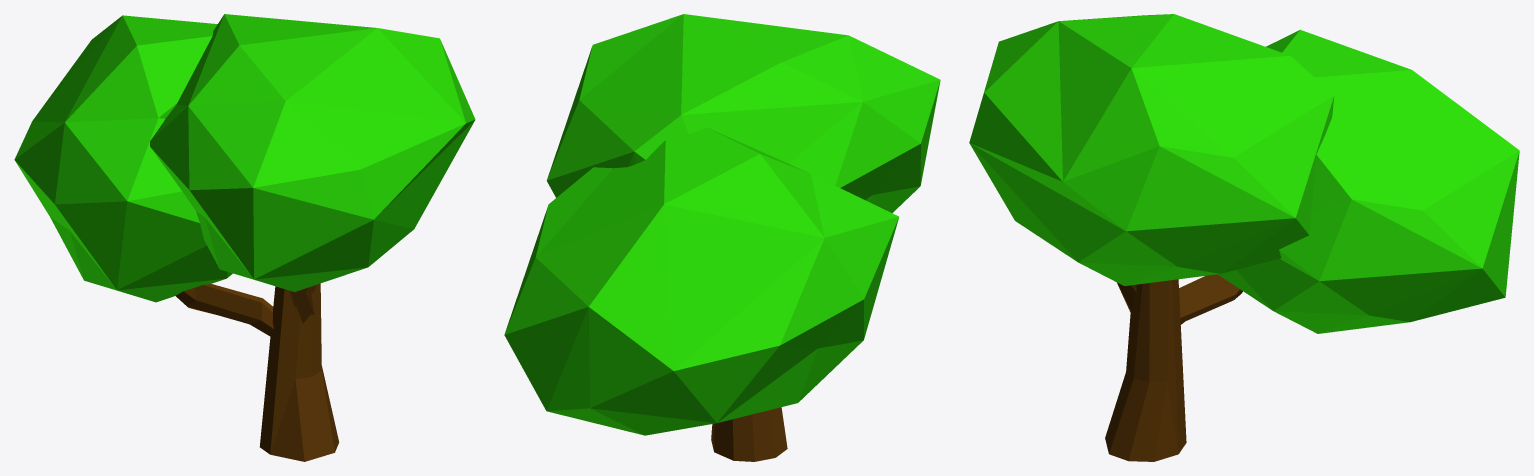
File: Bush#11.fbx
The picture shows the model from 3 angles, left to right: view 1: azimuth 30°, elevation 25°; view 2: azimuth 150°, elevation 25°; view 3: azimuth 270°, elevation 25°; orthographic projection. The views are drawn at different scales.
Visible parts, largest first — view 1: Bush#11; view 2: Bush#11; view 3: Bush#11.
Part boxes in pixels (x1,y1,x2,y2): Bush#11: (14, 14, 475, 461); Bush#11: (504, 14, 940, 461); Bush#11: (969, 14, 1519, 461).
Size of the model in its own units: 132 by 148 by 178.
